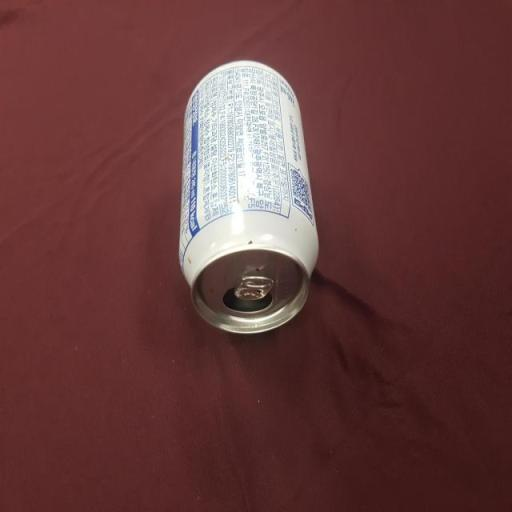metal: (176, 56, 326, 342)
